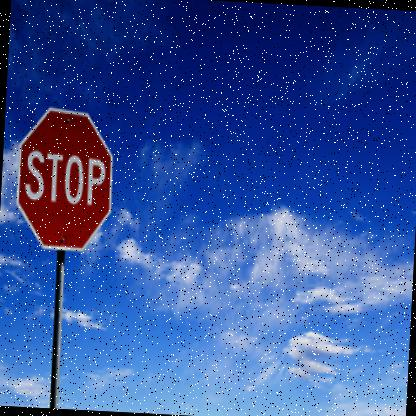stop: (9, 98, 117, 252)
